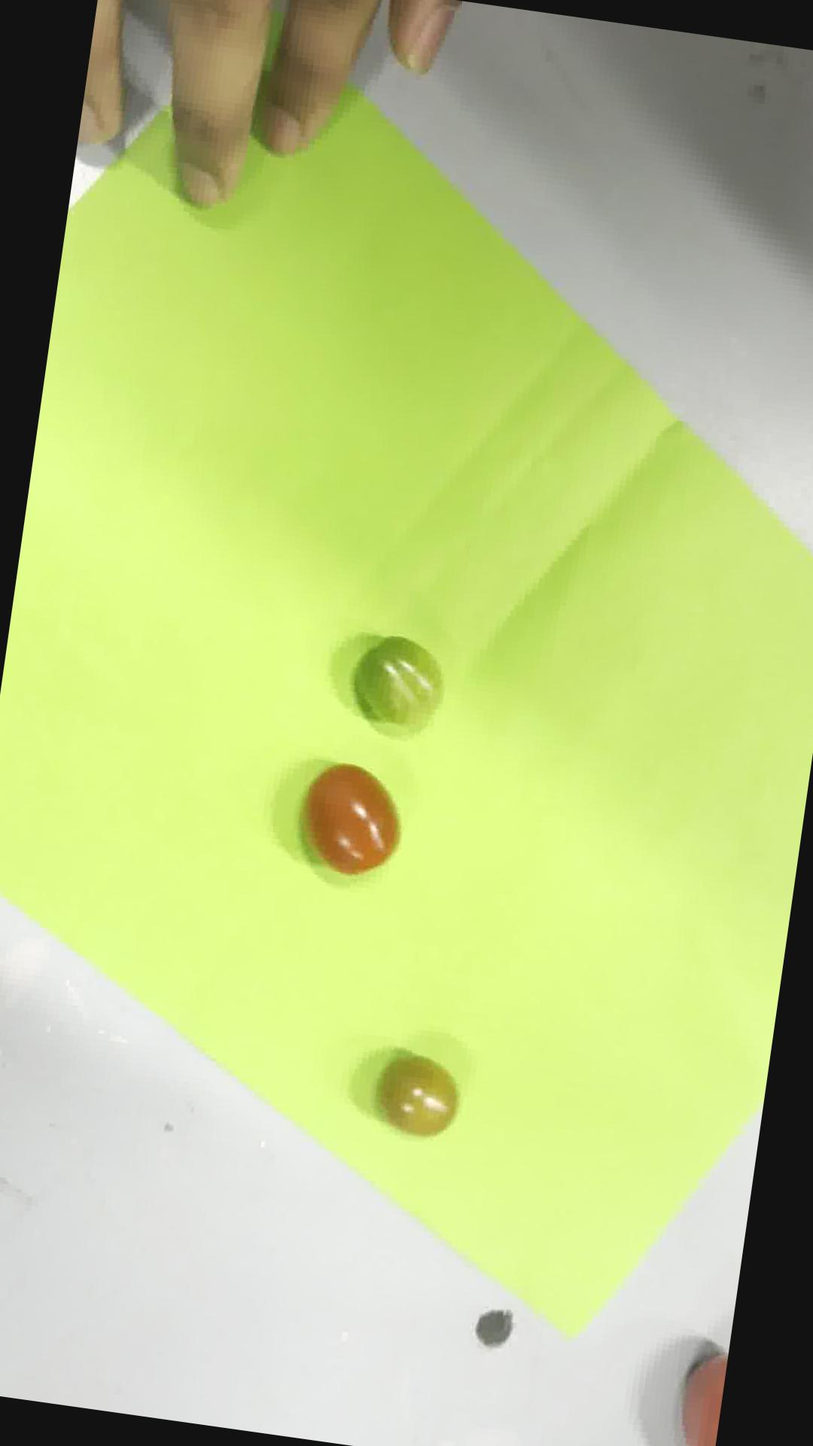green_cherry_tomato: (352, 634, 444, 735)
red_cherry_tomato: (305, 765, 399, 875)
yellow_cherry_tomato: (380, 1055, 458, 1136)
